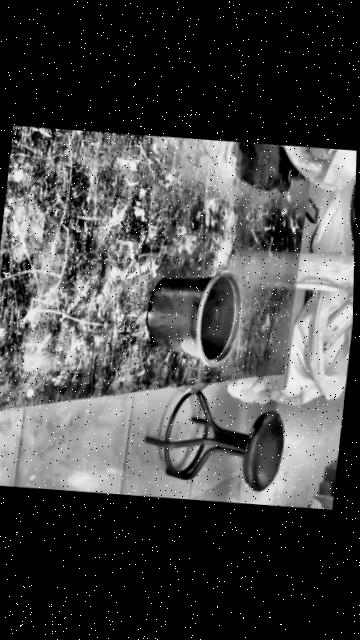pot: (143, 264, 246, 364)
